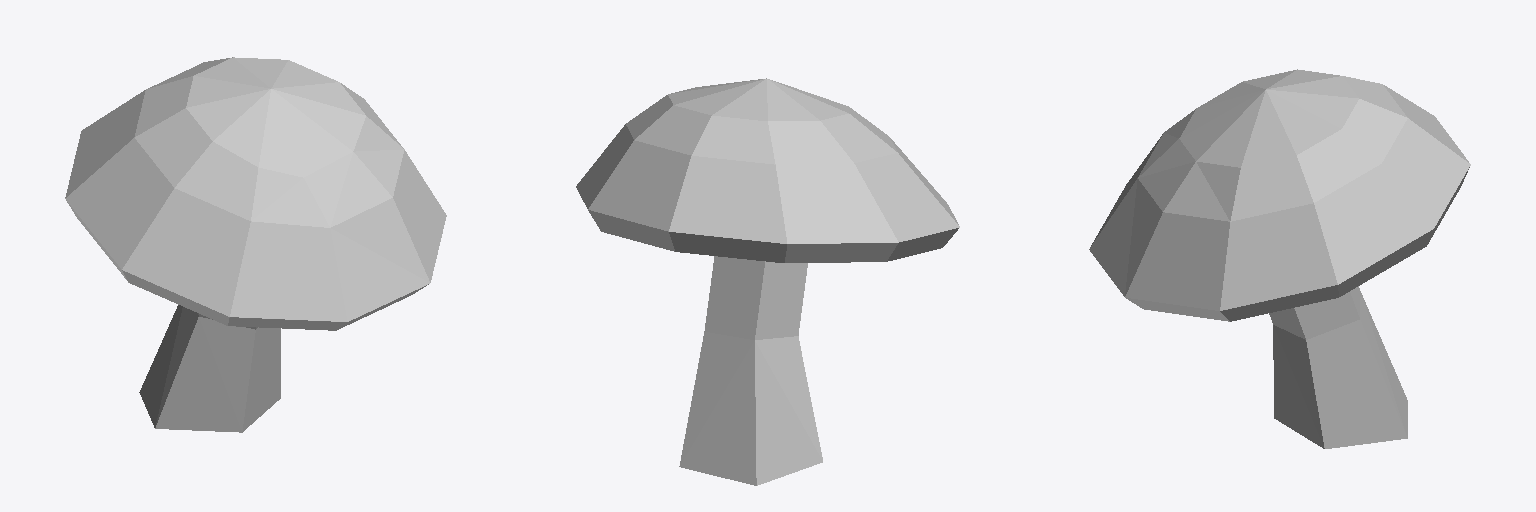
Rendered from Mushroom_2.obj.
3 renders of one model, left to right at view 1: azimuth 30°, elevation 25°; view 2: azimuth 150°, elevation 25°; view 3: azimuth 270°, elevation 25°, orthographic.
Visible parts, largest first — view 1: Mushroom_2; view 2: Mushroom_2; view 3: Mushroom_2.
Boxes of the visible parts, box(x1,y1,x2,y2) form: Mushroom_2: box(65, 57, 446, 432); Mushroom_2: box(576, 78, 959, 485); Mushroom_2: box(1089, 69, 1470, 448).
Size of the model in its own units: 0.3135 by 0.3129 by 0.3177.